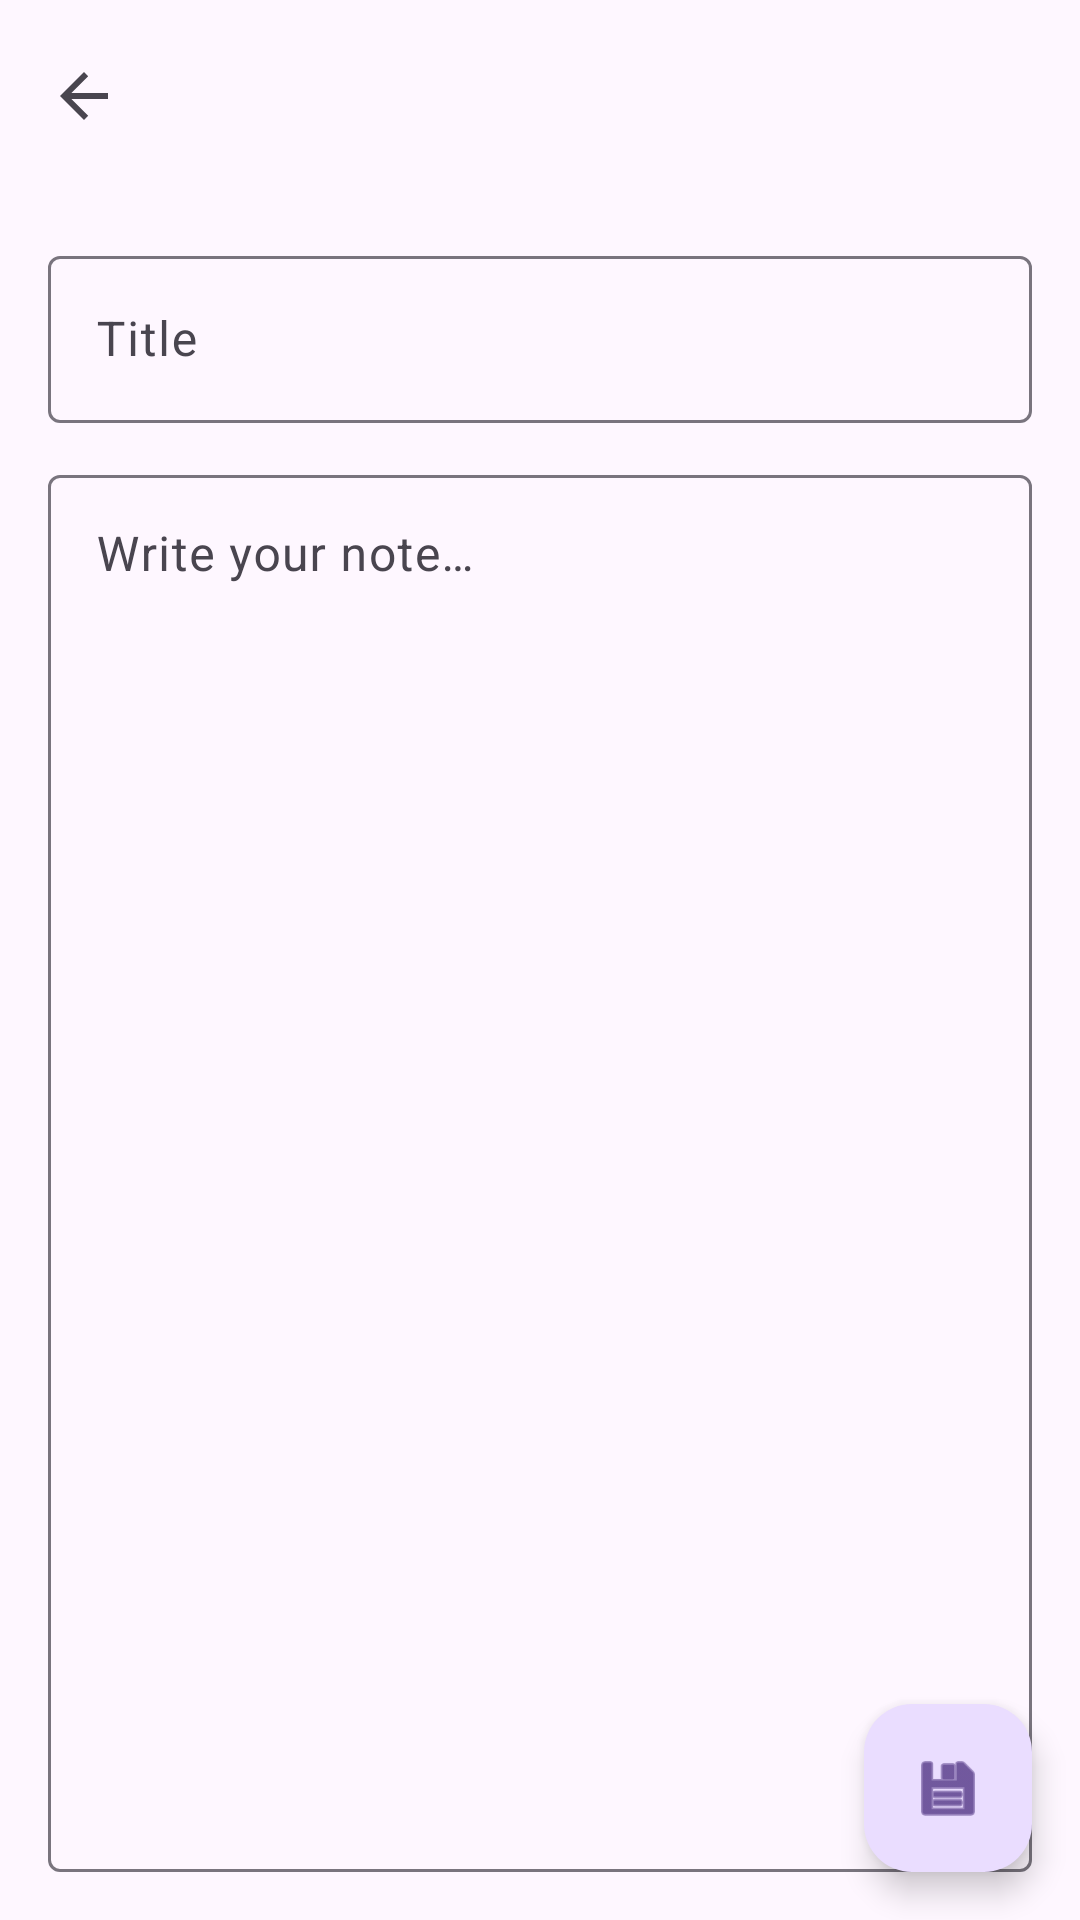

Named icons in this screenshot (1080 x 1920) and their bounding boxes, box=[x1, y1, x2, y2]:
Save note: box=[864, 1704, 1032, 1872]
